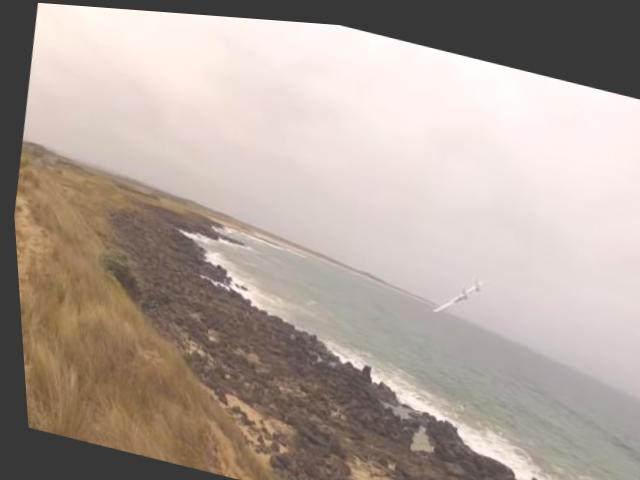uav: (419, 255, 491, 330)
